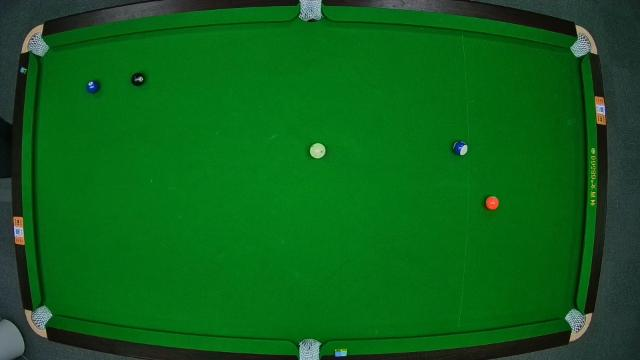bag1: (27, 35, 43, 53)
bag2: (300, 1, 322, 21)
bag3: (576, 36, 592, 56)
bag4: (32, 304, 49, 326)
bag5: (298, 340, 320, 360)
bag6: (566, 310, 586, 332)
ball0: (310, 143, 326, 159)
ball10: (450, 140, 468, 156)
ball2: (86, 80, 102, 94)
ball5: (485, 195, 501, 210)
ball8: (130, 72, 148, 86)
